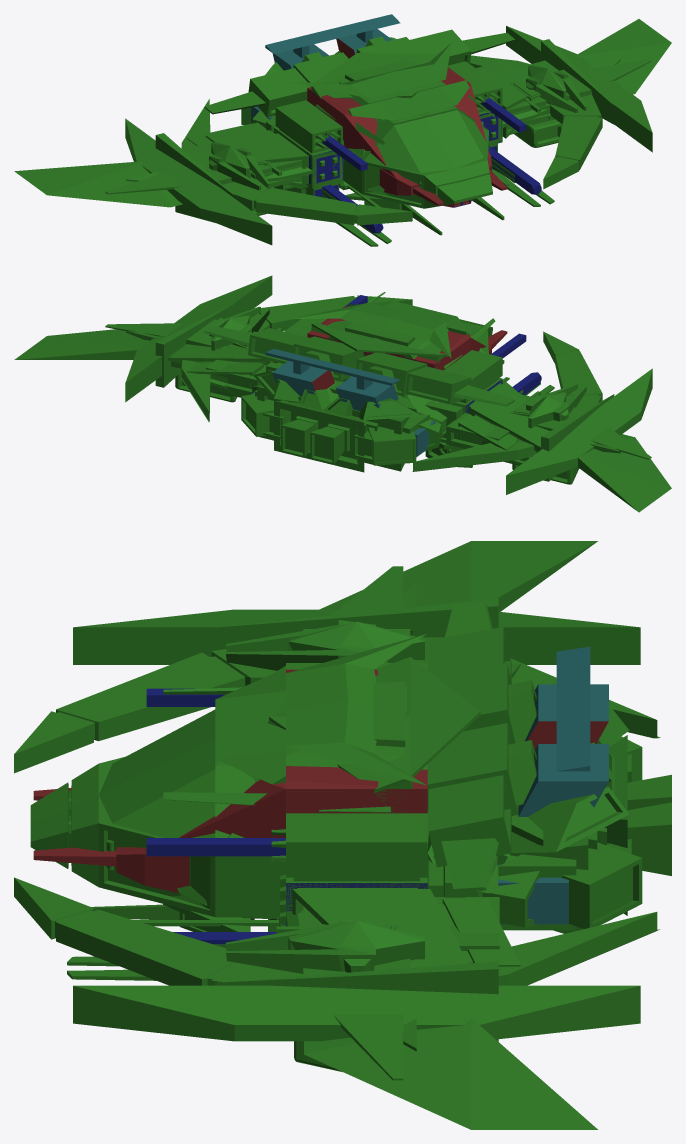
File: SpaceshipModular.fbx
The picture shows the model from 3 angles, top to bottom: view 1: azimuth 30°, elevation 25°; view 2: azimuth 150°, elevation 25°; view 3: azimuth 270°, elevation 25°; orthographic projection. The views are drawn at different scales.
Visible parts, largest first — view 1: Head.005, Wing.002, Head.004, Wing.000, Wing.009, Weap.005, Wing.005, Head.002, Wing.008, Head.003, Engine.002, Wing.001 (+12 smaller); view 2: Wing.002, Head.004, Engine.006, Wing.000, Wing.009, Wing.005, Engine.002, Head.003, Engine.004, Weap.005, Wing.008, Wing.001 (+11 smaller); view 3: Wing.002, Wing.000, Head.005, Head.004, Wing.009, Engine.006, Wing.008, Head.002, Engine.002, Weap.005, Head.003, Wing.005 (+10 smaller).
Boxes of the visible parts, <box> form: Head.005: <box>347,80,492,208</box>; Wing.002: <box>125,26,652,245</box>; Head.004: <box>204,29,514,207</box>; Wing.000: <box>181,55,602,225</box>; Wing.009: <box>14,19,671,207</box>; Weap.005: <box>266,61,502,188</box>; Wing.005: <box>182,60,558,187</box>; Head.002: <box>307,67,507,206</box>; Wing.008: <box>209,65,586,190</box>; Head.003: <box>291,43,460,204</box>; Engine.002: <box>251,14,400,123</box>; Wing.001: <box>155,39,614,199</box>; Wing.002: <box>125,275,652,494</box>; Head.004: <box>204,312,514,406</box>; Engine.006: <box>241,350,430,472</box>; Wing.000: <box>181,295,602,471</box>; Wing.009: <box>14,329,671,512</box>; Wing.005: <box>168,344,549,451</box>; Engine.002: <box>251,349,435,456</box>; Head.003: <box>291,302,451,359</box>; Engine.004: <box>263,412,372,464</box>; Weap.005: <box>266,311,502,442</box>; Wing.008: <box>209,306,586,428</box>; Wing.001: <box>155,302,614,481</box>; Wing.002: <box>73,609,640,1072</box>; Wing.000: <box>14,649,660,985</box>; Head.005: <box>30,665,285,916</box>; Head.004: <box>133,602,517,926</box>; Wing.009: <box>304,541,597,1129</box>; Engine.006: <box>427,680,642,928</box>; Wing.008: <box>225,620,424,973</box>; Head.002: <box>33,669,427,892</box>; Engine.002: <box>498,646,608,924</box>; Weap.005: <box>271,663,464,924</box>; Head.003: <box>243,634,427,785</box>; Wing.005: <box>292,637,520,967</box>.
Size of the model in its own units: 1972 by 321 by 931.
